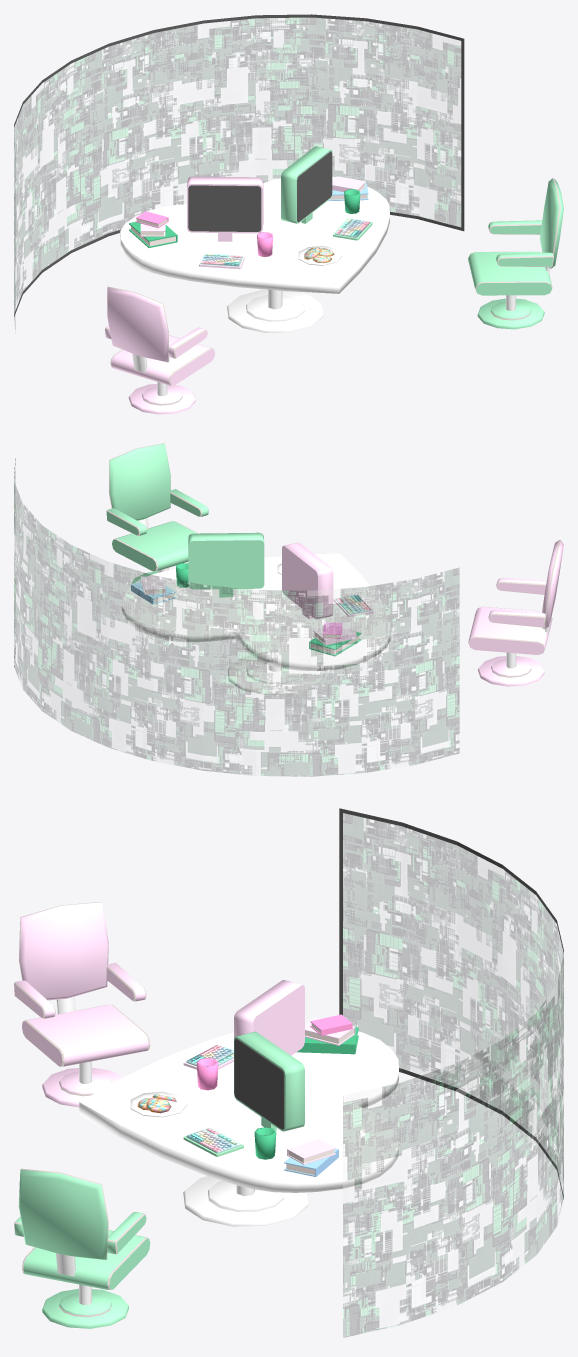
Rendered from Platform3.glb.
3 renders of one model, top to bottom at view 1: azimuth 30°, elevation 25°; view 2: azimuth 150°, elevation 25°; view 3: azimuth 270°, elevation 25°, orthographic. The views are drawn at different scales.
Parts seen in each view (by area): view 1: Platform3.001; view 2: Platform3.001; view 3: Platform3.001.
Part boxes in pixels (x1,y1,x2,y2): Platform3.001: (14, 14, 563, 414); Platform3.001: (14, 443, 563, 776); Platform3.001: (14, 808, 563, 1337).
Size of what is drawn, in the model's own units: 5.28 by 2.16 by 4.3.
5 materials, 5 textured.
